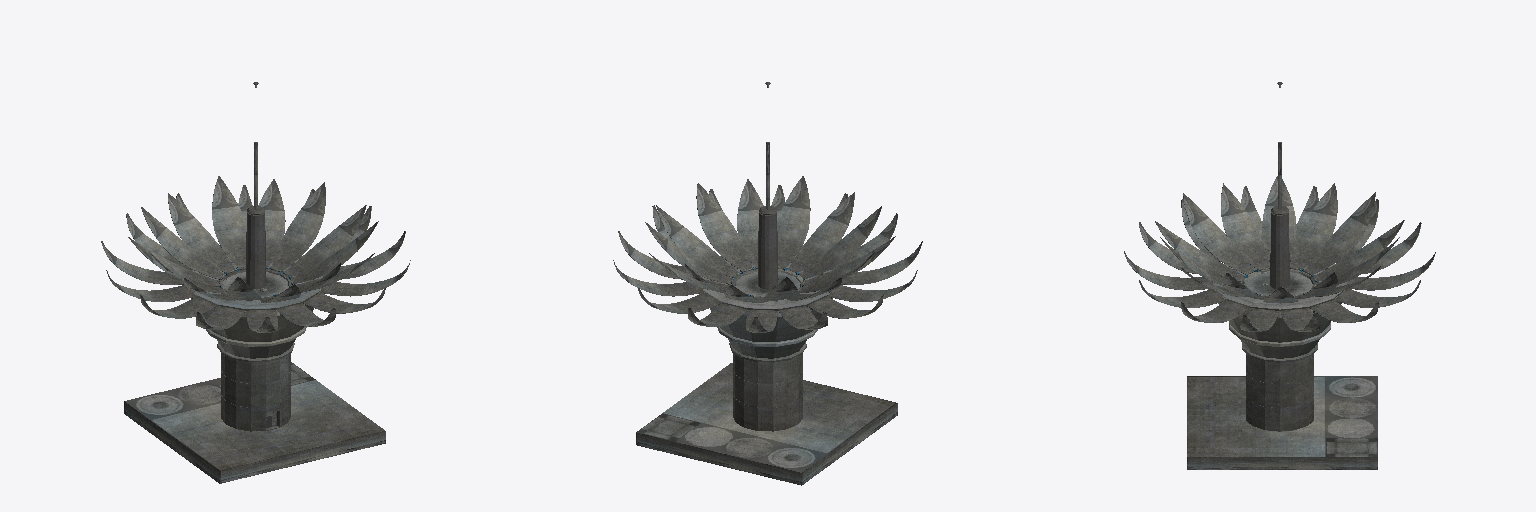
The picture shows the model from 3 angles: view 1: azimuth 30°, elevation 25°; view 2: azimuth 150°, elevation 25°; view 3: azimuth 270°, elevation 25°; orthographic projection.
Visible parts, largest first — view 1: Box004, Observatory001, Ring2_Petal_005, Ring2_Petal_007, Ring2_Petal_008, Ring2_Petal_004, Ring2_Petal_009, Ring2_Petal_006, Ring2_Petal_003, Dome_10, Dome_03, Dome_11 (+8 smaller); view 2: Box004, Observatory001, Ring2_Petal_003, Ring2_Petal_01, Ring2_Petal_014, Ring2_Petal_013, Ring2_Petal_004, Ring2_Petal_002, Ring2_Petal_005, Dome_13, Dome_06, Dome_12 (+8 smaller); view 3: Box004, Observatory001, Ring2_Petal_010, Ring2_Petal_012, Ring2_Petal_009, Ring2_Petal_013, Ring2_Petal_008, Ring2_Petal_011, Ring2_Petal_014, Dome_01, Dome_08, Dome_02 (+7 smaller).
Boxes of the visible parts, x1,y1,x2,y2 form: Box004: [124, 362, 385, 483]; Observatory001: [192, 206, 322, 431]; Ring2_Petal_005: [271, 182, 325, 270]; Ring2_Petal_007: [212, 176, 246, 267]; Ring2_Petal_008: [168, 193, 234, 272]; Ring2_Petal_004: [285, 205, 366, 276]; Ring2_Petal_009: [141, 207, 223, 278]; Ring2_Petal_006: [258, 179, 285, 266]; Ring2_Petal_003: [292, 221, 378, 283]; Dome_10: [101, 241, 183, 284]; Dome_03: [320, 260, 410, 296]; Dome_11: [106, 270, 195, 301]; Box004: [636, 363, 897, 485]; Observatory001: [701, 206, 831, 431]; Ring2_Petal_003: [696, 183, 751, 270]; Ring2_Petal_01: [777, 176, 810, 267]; Ring2_Petal_014: [788, 192, 854, 272]; Ring2_Petal_013: [799, 206, 881, 278]; Ring2_Petal_004: [656, 205, 738, 276]; Ring2_Petal_002: [737, 179, 763, 266]; Ring2_Petal_005: [645, 222, 731, 283]; Dome_13: [841, 241, 922, 284]; Dome_06: [613, 260, 703, 296]; Dome_12: [828, 270, 917, 301]; Box004: [1187, 376, 1377, 469]; Observatory001: [1213, 206, 1346, 431]; Ring2_Petal_010: [1290, 183, 1337, 268]; Ring2_Petal_012: [1221, 183, 1269, 268]; Ring2_Petal_009: [1305, 192, 1375, 274]; Ring2_Petal_013: [1183, 193, 1254, 274]; Ring2_Petal_008: [1314, 220, 1404, 281]; Ring2_Petal_011: [1262, 176, 1296, 259]; Ring2_Petal_014: [1155, 221, 1245, 281]; Dome_01: [1124, 251, 1212, 290]; Dome_08: [1347, 252, 1435, 290]; Dome_02: [1139, 280, 1225, 307].
Bounding box in the file's own units: 4617 × 5787 × 4725.
Materials: 5 (2 with a texture image).